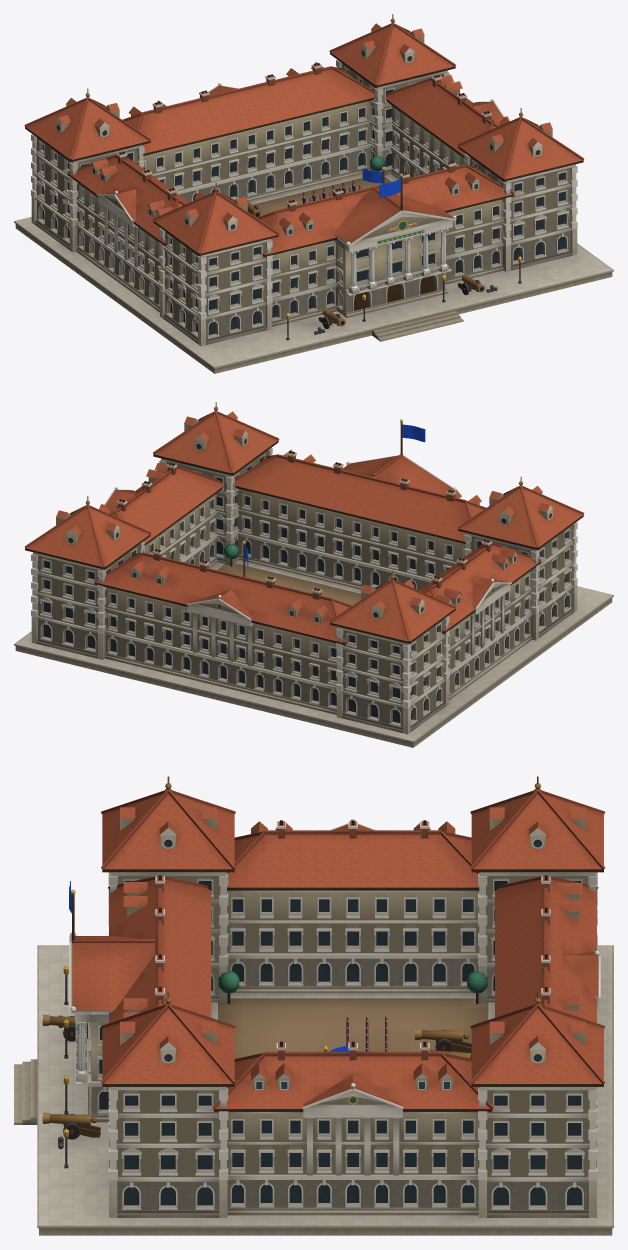
Rendered from lm_harbiye.glb.
The picture shows the model from 3 angles, top to bottom: view 1: azimuth 30°, elevation 25°; view 2: azimuth 150°, elevation 25°; view 3: azimuth 270°, elevation 25°; orthographic projection. The views are drawn at different scales.
Visible parts, largest first — view 1: lm_harbiye; view 2: lm_harbiye; view 3: lm_harbiye.
Part boxes in pixels (bbox=[...]): lm_harbiye: bbox=[14, 14, 613, 373]; lm_harbiye: bbox=[14, 402, 613, 747]; lm_harbiye: bbox=[14, 776, 613, 1235].
Size of the model in its own units: 2.41 by 0.8487 by 2.18.
1 material, 1 textured.
